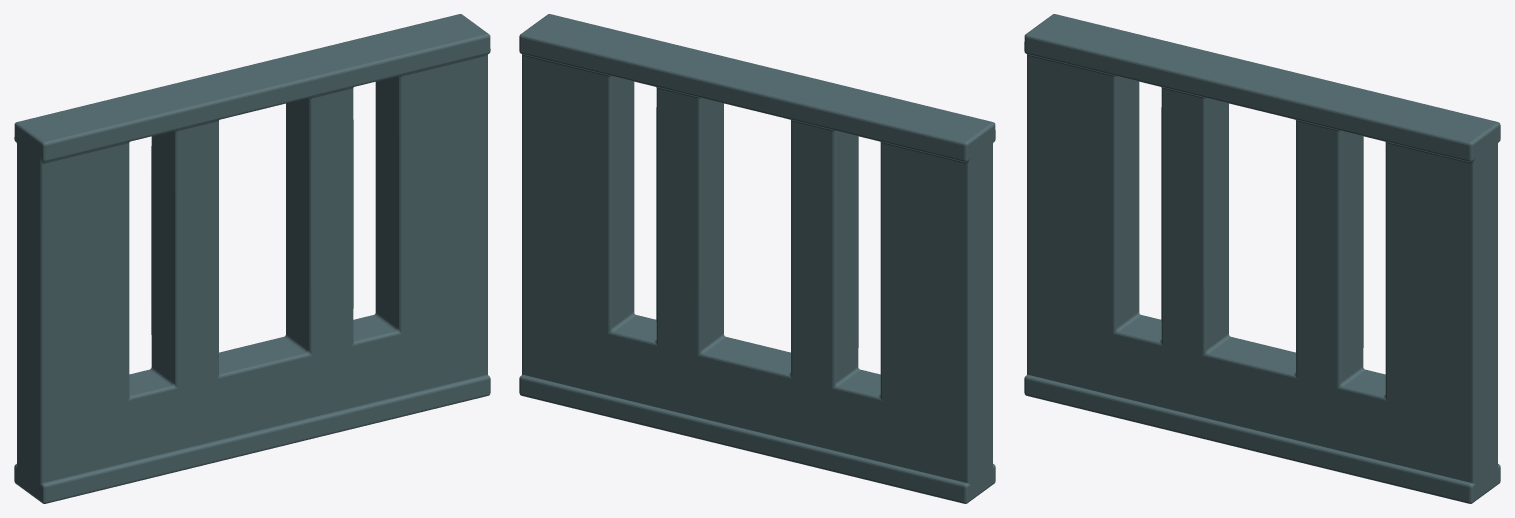
Rendered from wall 3 long cut inside.fbx.
3 renders of one model, left to right at view 1: azimuth 30°, elevation 25°; view 2: azimuth 150°, elevation 25°; view 3: azimuth 330°, elevation 25°, orthographic.
Visible parts, largest first — view 1: wall 3long cut inside; view 2: wall 3long cut inside; view 3: wall 3long cut inside.
Part boxes in pixels (left/top/right/bottom): wall 3long cut inside: left=14, top=14, right=490, bottom=503; wall 3long cut inside: left=519, top=14, right=995, bottom=503; wall 3long cut inside: left=1024, top=14, right=1500, bottom=503.
Bounding box in the file's own units: 400 × 308 × 46.25.
